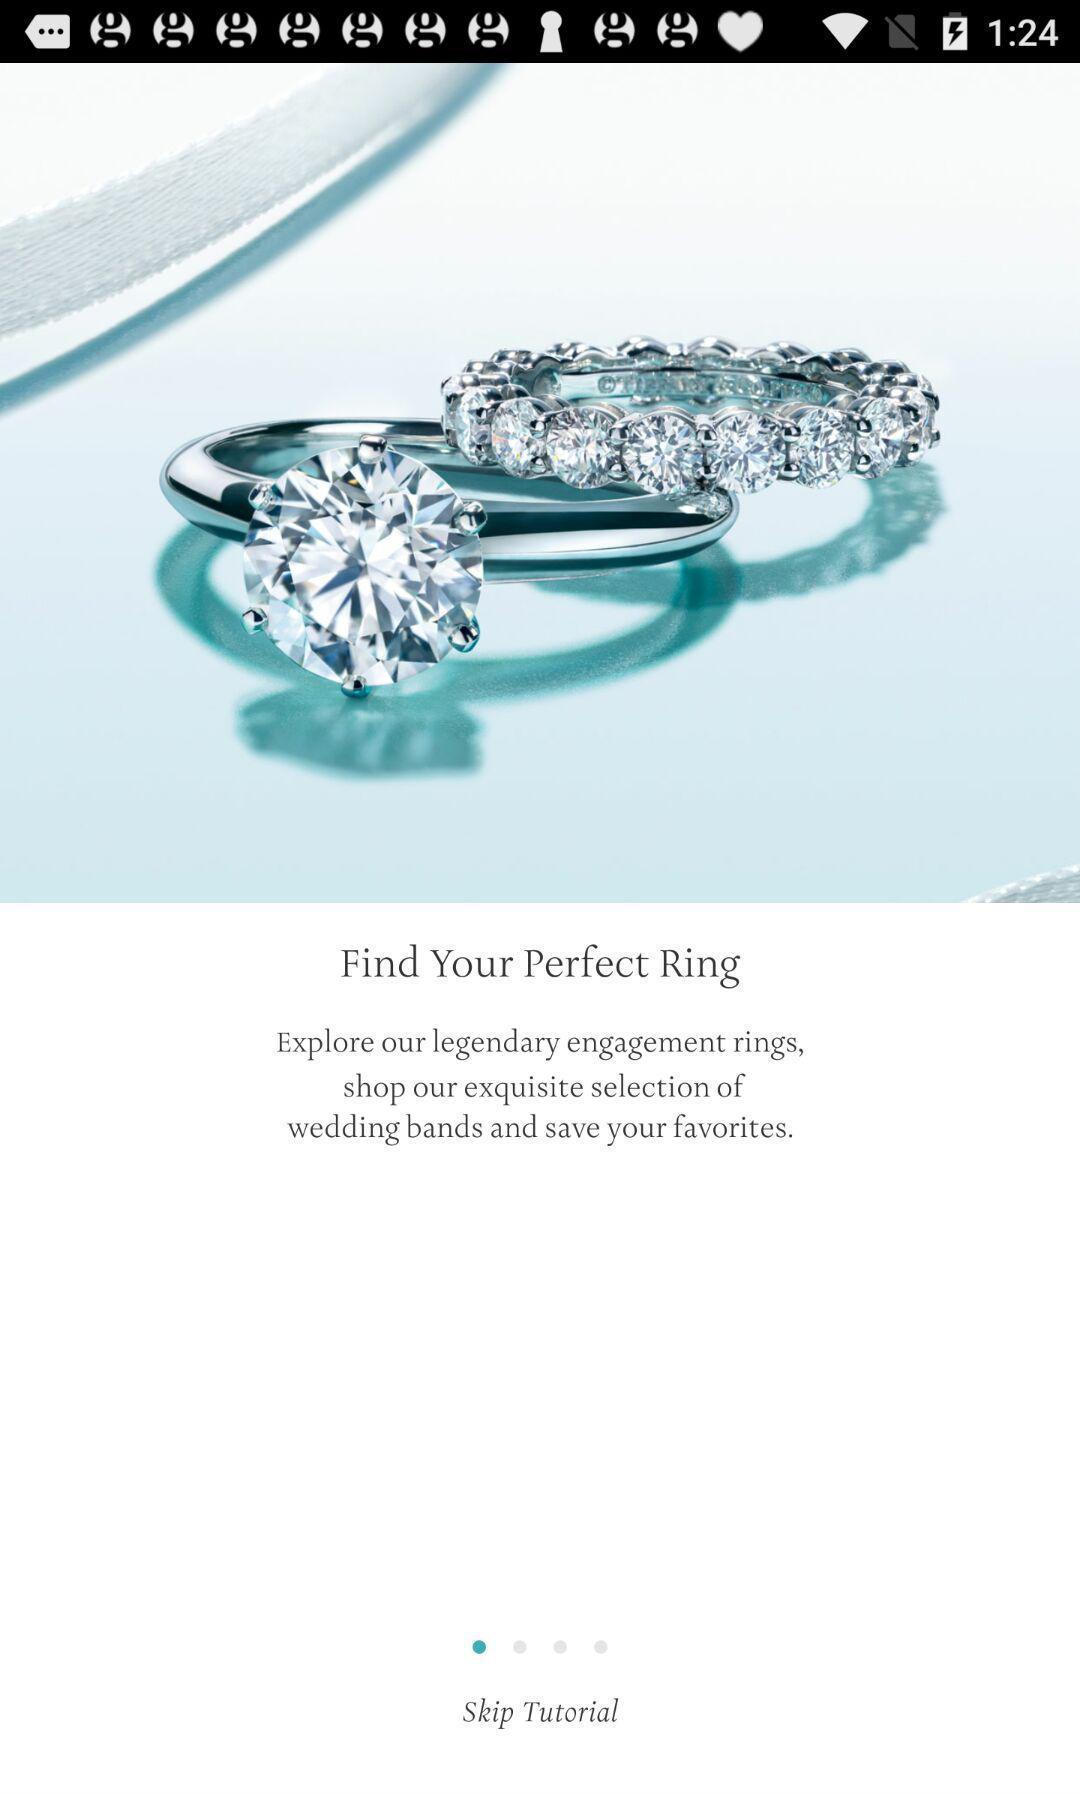Image: (1, 64, 1080, 903)
PageIndicator: (471, 1639, 610, 1656)
Text: (275, 1026, 805, 1147), (341, 943, 742, 991), (462, 1697, 620, 1730)
UpperTaskBar: (1, 1, 1080, 64)
